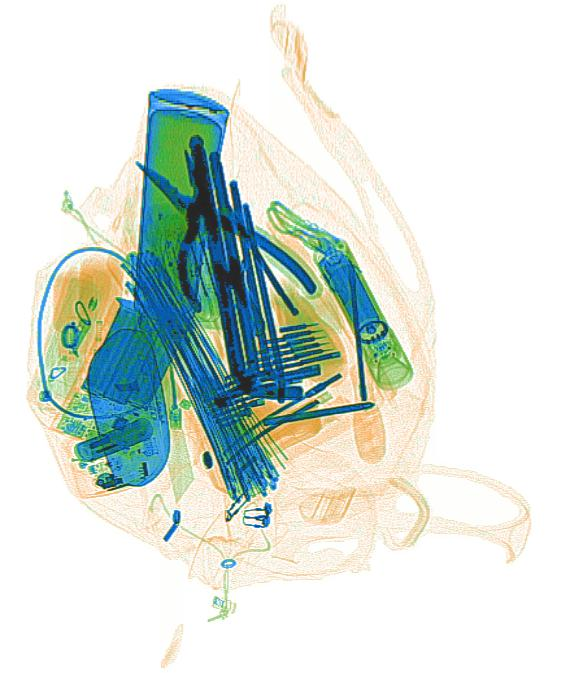battery: (53, 293, 193, 462), (323, 250, 383, 341), (73, 417, 155, 462)
plasticBottleWithaNozzle: (75, 255, 122, 373)
